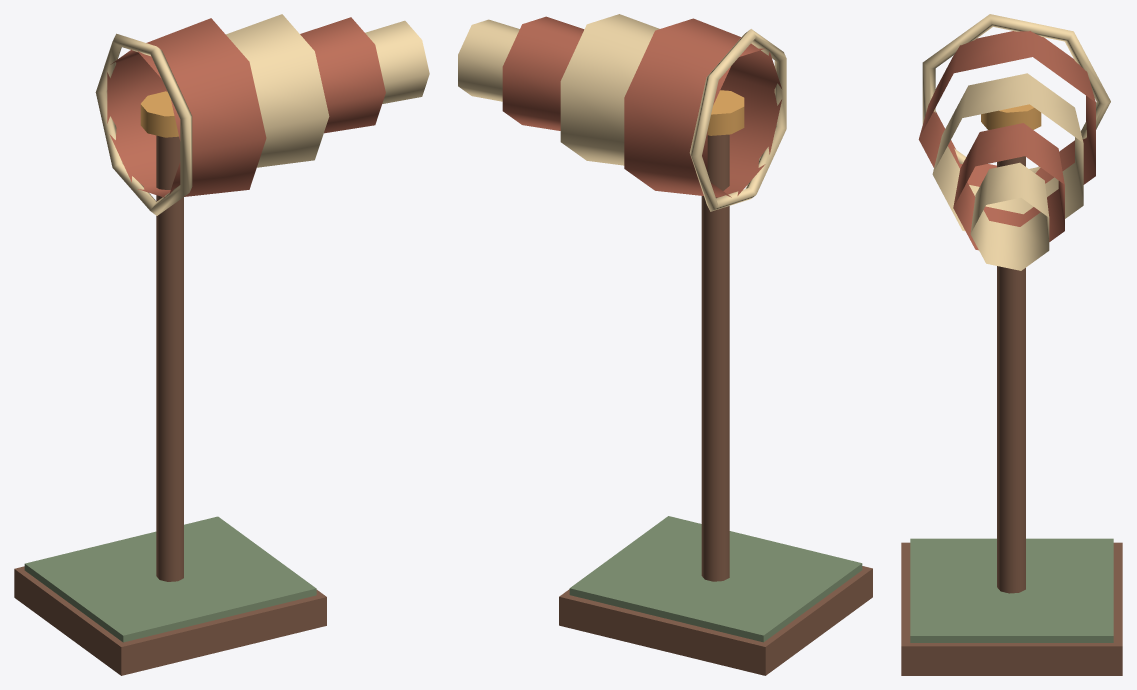
The model's file is windsock.glb.
3 renders of one model, left to right at view 1: azimuth 30°, elevation 25°; view 2: azimuth 150°, elevation 25°; view 3: azimuth 270°, elevation 25°, orthographic. The views are drawn at different scales.
Parts seen in each view (by area): view 1: paper_top, pleated_ribbon_0, pole, paper_base, pleated_ribbon_1, pleated_ribbon_2, mouth_rim, pleated_ribbon_3, cap; view 2: paper_top, pleated_ribbon_0, pole, paper_base, pleated_ribbon_1, pleated_ribbon_2, mouth_rim, pleated_ribbon_3, cap; view 3: paper_top, pole, paper_base, pleated_ribbon_0, pleated_ribbon_1, pleated_ribbon_3, pleated_ribbon_2, mouth_rim, cap.
Boxes of the visible parts, x1,y1,x2,y2 form: paper_top: [24, 516, 316, 642]; pleated_ribbon_0: [107, 18, 266, 197]; pole: [156, 135, 183, 581]; paper_base: [14, 566, 326, 675]; pleated_ribbon_1: [226, 14, 329, 167]; pleated_ribbon_2: [300, 17, 385, 133]; mouth_rim: [95, 33, 192, 215]; pleated_ribbon_3: [365, 20, 429, 103]; cap: [140, 91, 178, 137]; paper_top: [569, 516, 862, 642]; pleated_ribbon_0: [624, 18, 781, 197]; pole: [701, 134, 729, 581]; paper_base: [559, 566, 872, 675]; pleated_ribbon_1: [560, 14, 659, 165]; pleated_ribbon_2: [502, 16, 584, 130]; mouth_rim: [689, 29, 786, 211]; pleated_ribbon_3: [458, 19, 519, 101]; cap: [707, 90, 744, 135]; paper_top: [910, 538, 1113, 642]; pole: [997, 156, 1025, 593]; paper_base: [901, 542, 1122, 675]; pleated_ribbon_0: [918, 31, 1095, 186]; pleated_ribbon_1: [932, 73, 1083, 231]; pleated_ribbon_3: [970, 162, 1049, 270]; pleated_ribbon_2: [953, 123, 1064, 250]; mouth_rim: [922, 14, 1110, 173]; cap: [981, 104, 1041, 129].
Size of the model in its own units: 1.18 by 1.91 by 0.64.
